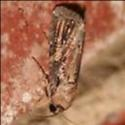army worm adult: (38, 6, 86, 121)
